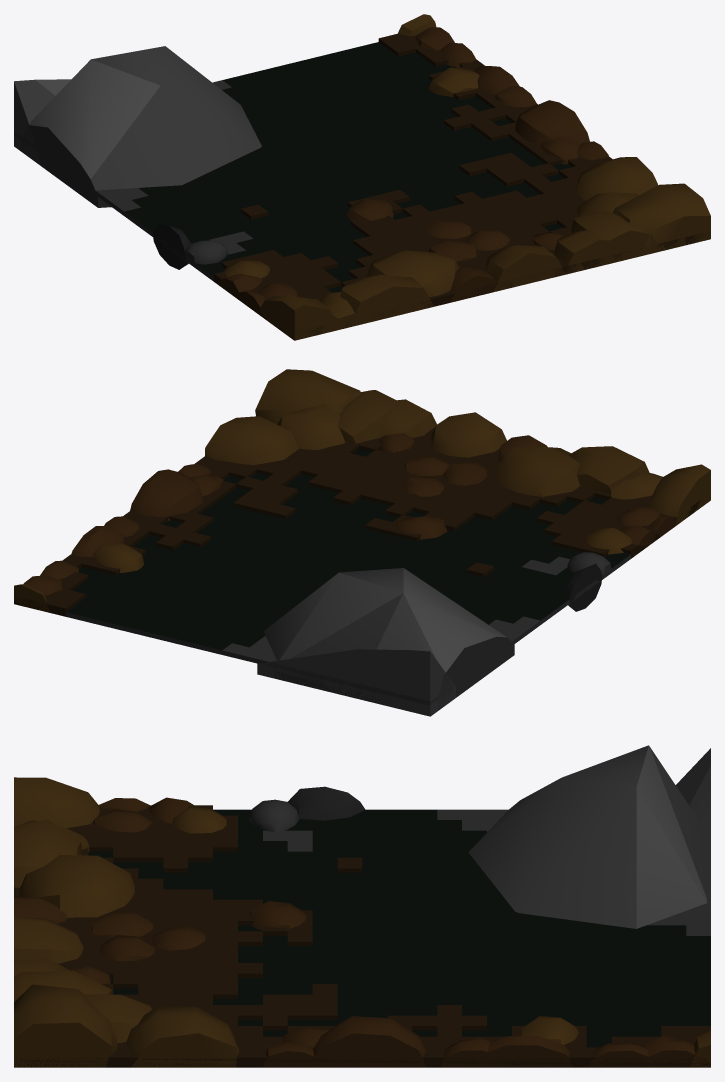
File: holes_rocks_br.glb
3 views of the same model, one above another, from view 1: azimuth 30°, elevation 25°; view 2: azimuth 150°, elevation 25°; view 3: azimuth 270°, elevation 25° (orthographic). The views are drawn at different scales.
Parts seen in each view (by area): view 1: holes_rocks_br_pit, holes_rocks_br_rock_right, holes_rocks_br_dirt_base, holes_rocks_br_dirt_27, holes_rocks_br_dirt_10, holes_rocks_br_dirt_71, holes_rocks_br_dirt_20, holes_rocks_br_dirt_25, holes_rocks_br_dirt_81, holes_rocks_br_dirt_16, holes_rocks_br_dirt_121, holes_rocks_br_rock_big (+19 smaller); view 2: holes_rocks_br_pit, holes_rocks_br_dirt_base, holes_rocks_br_rock_right, holes_rocks_br_rock_big, holes_rocks_br_dirt_20, holes_rocks_br_dirt_16, holes_rocks_br_dirt_27, holes_rocks_br_dirt_71, holes_rocks_br_dirt_121, holes_rocks_br_dirt_10, holes_rocks_br_dirt_25, holes_rocks_br_dirt_81 (+15 smaller); view 3: holes_rocks_br_pit, holes_rocks_br_dirt_base, holes_rocks_br_rock_right, holes_rocks_br_dirt_27, holes_rocks_br_dirt_16, holes_rocks_br_dirt_20, holes_rocks_br_dirt_121, holes_rocks_br_dirt_25, holes_rocks_br_dirt_10, holes_rocks_br_dirt_71, holes_rocks_br_dirt_126, holes_rocks_br_rock_big (+21 smaller).
Part boxes in pixels (box(x1,y1,x2,y2)): holes_rocks_br_pit: box(14, 42, 571, 292); holes_rocks_br_rock_right: box(21, 46, 261, 207); holes_rocks_br_dirt_base: box(214, 33, 709, 338); holes_rocks_br_dirt_27: box(612, 183, 710, 255); holes_rocks_br_dirt_10: box(340, 275, 433, 326); holes_rocks_br_dirt_71: box(485, 245, 565, 292); holes_rocks_br_dirt_20: box(367, 250, 459, 297); holes_rocks_br_dirt_25: box(259, 296, 341, 340); holes_rocks_br_dirt_81: box(571, 211, 661, 266); holes_rocks_br_dirt_16: box(574, 157, 657, 200); holes_rocks_br_dirt_121: box(515, 100, 589, 144); holes_rocks_br_rock_big: box(14, 79, 70, 164); holes_rocks_br_pit: box(66, 449, 630, 705); holes_rocks_br_dirt_base: box(14, 427, 700, 616); holes_rocks_br_rock_right: box(263, 568, 514, 710); holes_rocks_br_rock_big: box(257, 649, 455, 716); holes_rocks_br_dirt_20: box(492, 447, 579, 496); holes_rocks_br_dirt_16: box(205, 416, 299, 464); holes_rocks_br_dirt_27: box(255, 369, 361, 424); holes_rocks_br_dirt_71: box(431, 412, 506, 457); holes_rocks_br_dirt_121: box(130, 469, 203, 520); holes_rocks_br_dirt_10: box(569, 446, 649, 492); holes_rocks_br_dirt_25: box(649, 464, 710, 525); holes_rocks_br_dirt_81: box(337, 390, 397, 443); holes_rocks_br_pit: box(88, 809, 710, 1047); holes_rocks_br_dirt_base: box(14, 805, 710, 1067); holes_rocks_br_rock_right: box(468, 745, 707, 928); holes_rocks_br_dirt_27: box(14, 984, 117, 1067); holes_rocks_br_dirt_16: box(126, 1006, 239, 1067); holes_rocks_br_dirt_20: box(19, 855, 134, 917); holes_rocks_br_dirt_121: box(309, 1016, 425, 1067); holes_rocks_br_dirt_25: box(14, 777, 99, 828); holes_rocks_br_dirt_10: box(14, 819, 82, 887); holes_rocks_br_dirt_71: box(14, 917, 83, 963); holes_rocks_br_dirt_126: box(478, 1035, 572, 1067); holes_rocks_br_rock_big: box(675, 748, 710, 906).
Size of the model in its own units: 23.98 by 5.4 by 27.98.
